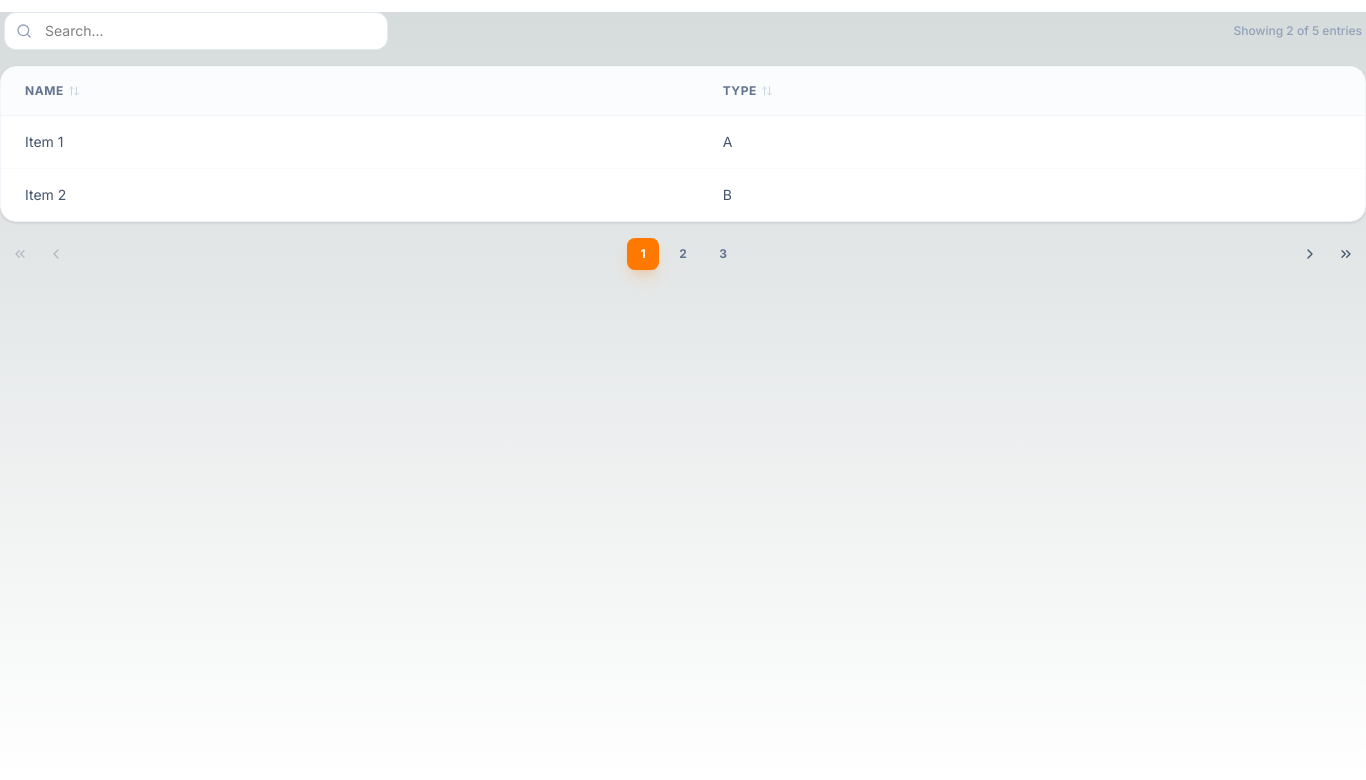
Test: DataTable › handles pagination correctly
expect the text "Item 1" is shown: met, box [1,116,699,168]
expect the text "Item 2" is shown: met, box [1,168,699,221]
// Click next page (button with text "2")
Click the button "2" at (683,254), box [667,238,699,270]
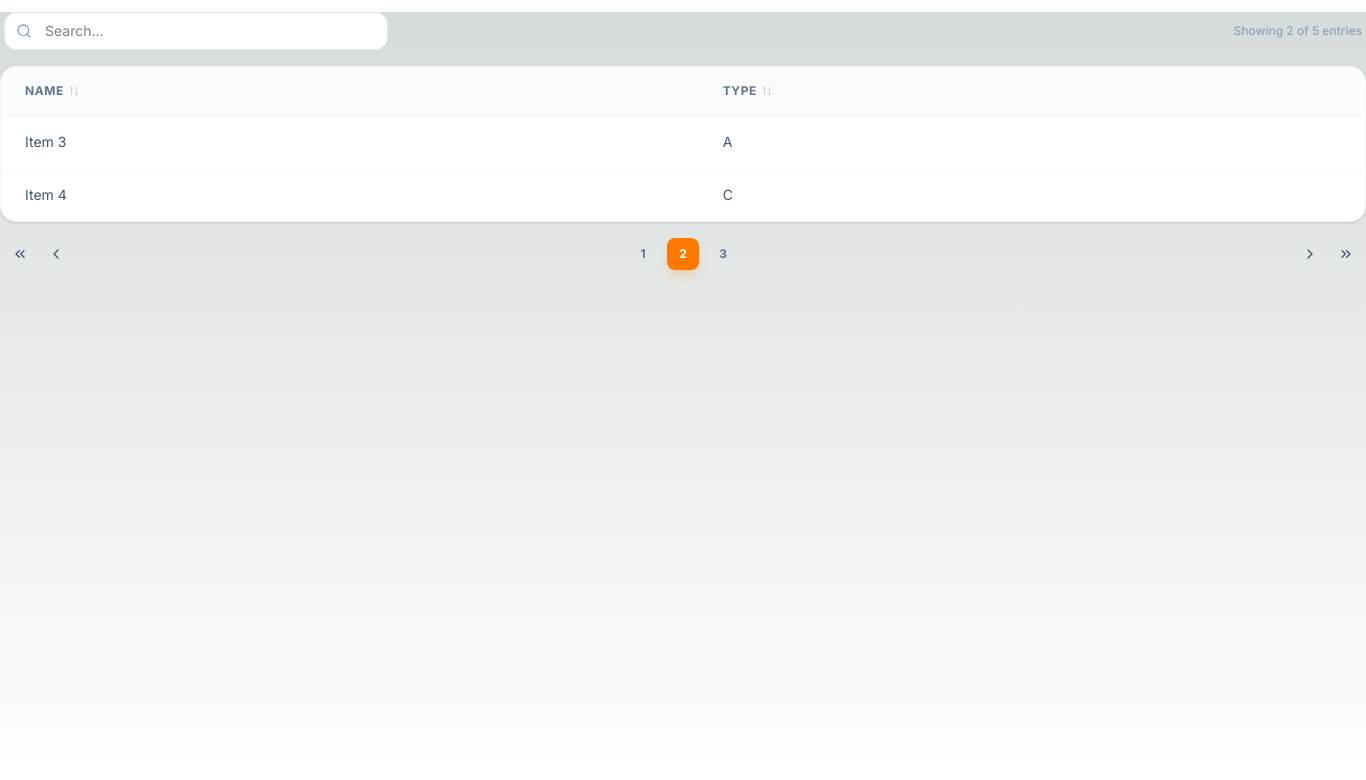
expect the text "Item 3" is shown: met, box [1,116,699,168]
expect the text "Item 4" is shown: met, box [1,168,699,221]
expect the text "Item 1" is gone: met
